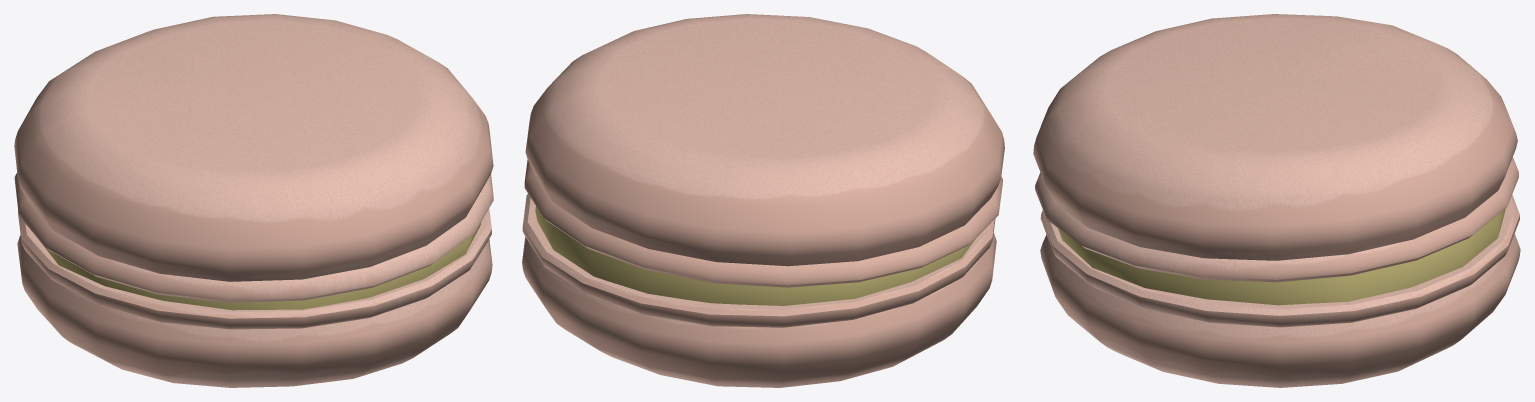
Rendered from macaron.fbx.
3 views of the same model, side by side, from view 1: azimuth 30°, elevation 25°; view 2: azimuth 150°, elevation 25°; view 3: azimuth 270°, elevation 25° (orthographic).
Parts seen in each view (by area): view 1: pCylinder4; view 2: pCylinder4; view 3: pCylinder4.
Boxes of the visible parts, box(x1,y1,x2,y2) form: pCylinder4: box(14, 14, 493, 387); pCylinder4: box(522, 14, 1004, 387); pCylinder4: box(1033, 14, 1520, 387).
Bounding box in the file's own units: 412 × 219 × 412.
Materials: 1 (1 with a texture image).
